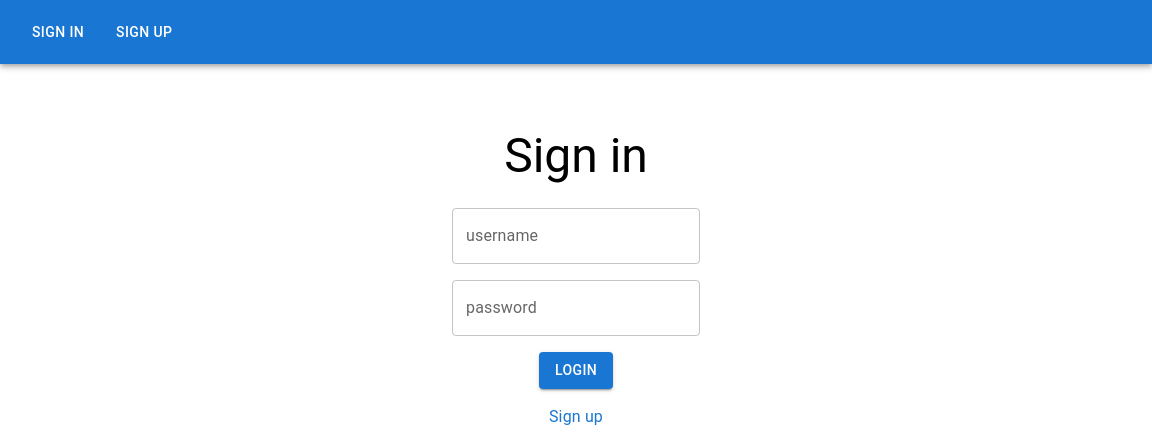
Test: Blog app › Login › fails with wrong credentials
Type "gonzaloc" into the field with id "username" at (576, 236), box 452,208 -> 700,264
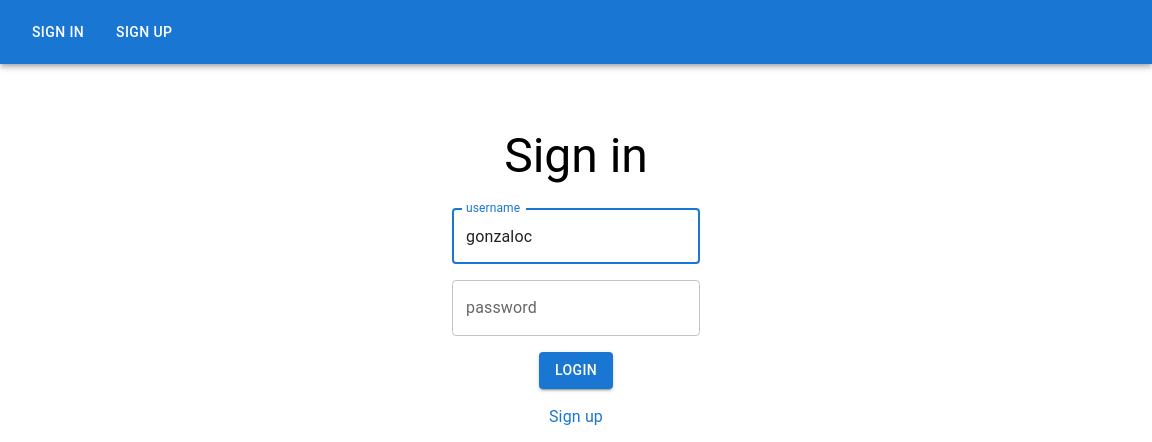
Type "wrong" into the password field labelled "password" at (576, 308), box 452,280 -> 700,336
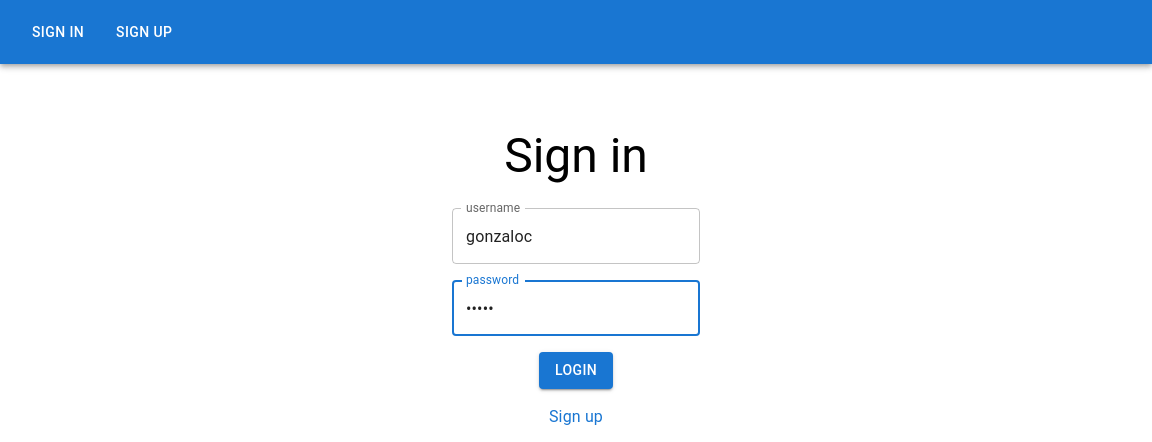
Click the button "login" at (576, 371), box 539,352 -> 613,389
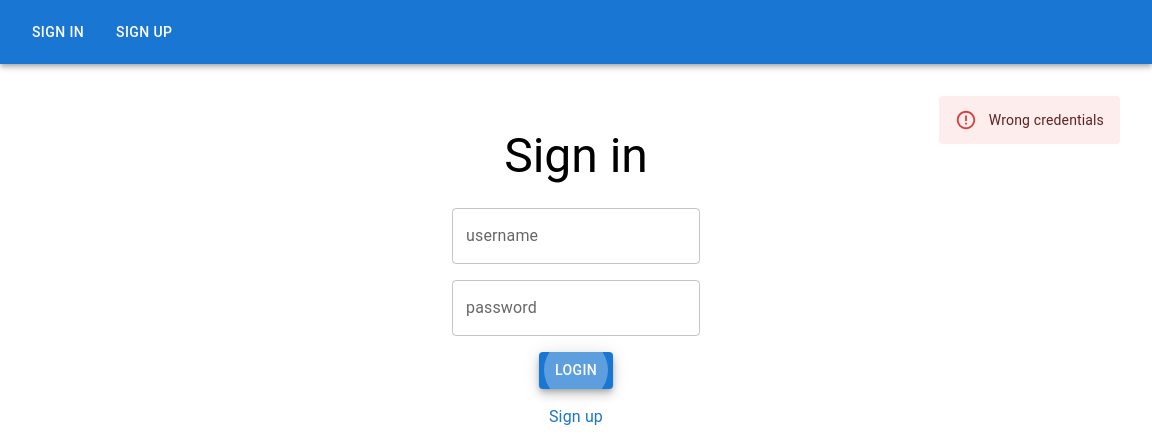
Now the text "Wrong credentials" is shown, box 989,112 -> 1104,128
